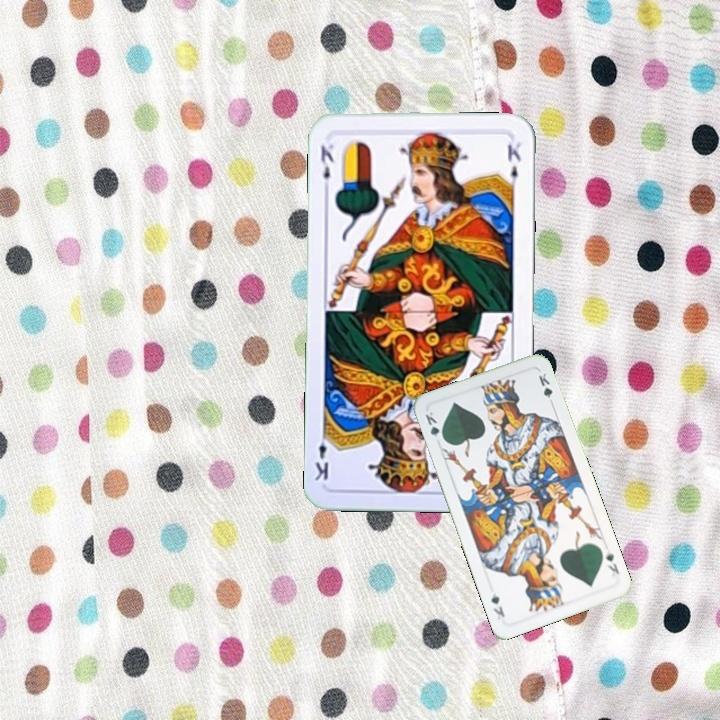EK: (316, 139, 336, 194)
GK: (421, 408, 447, 444), (602, 546, 622, 579)
